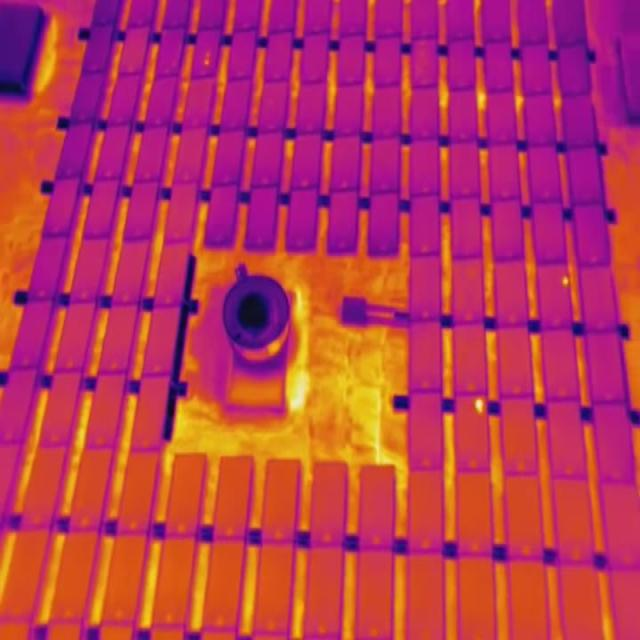Orange-Spots: (474, 397, 484, 414), (204, 50, 210, 66), (562, 276, 569, 288)
